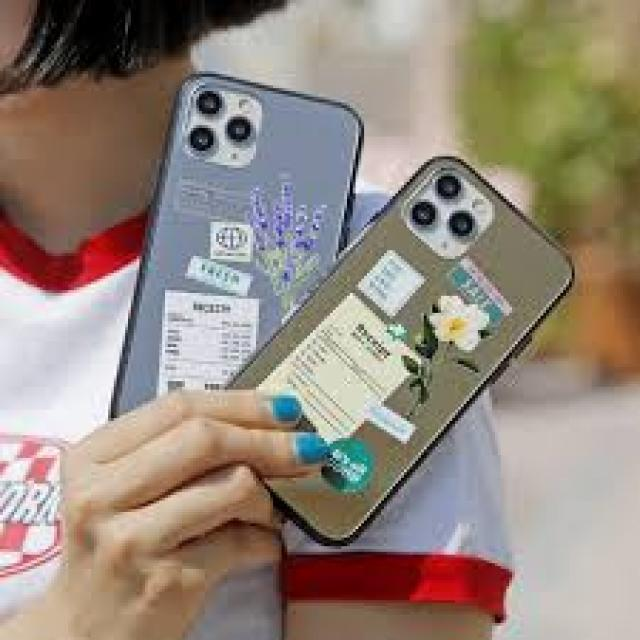Phone: (202, 150, 584, 546), (106, 71, 365, 429)
